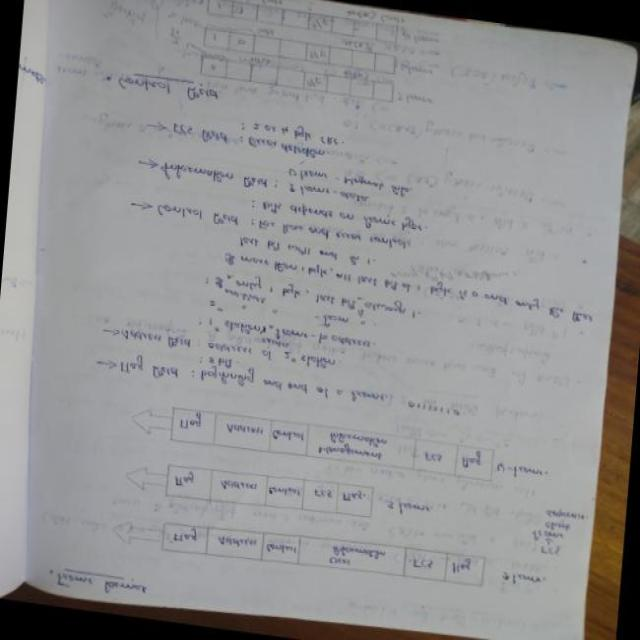Figure Detection - v3 Dataset Version2: (91, 380, 598, 625), (88, 0, 462, 118)
